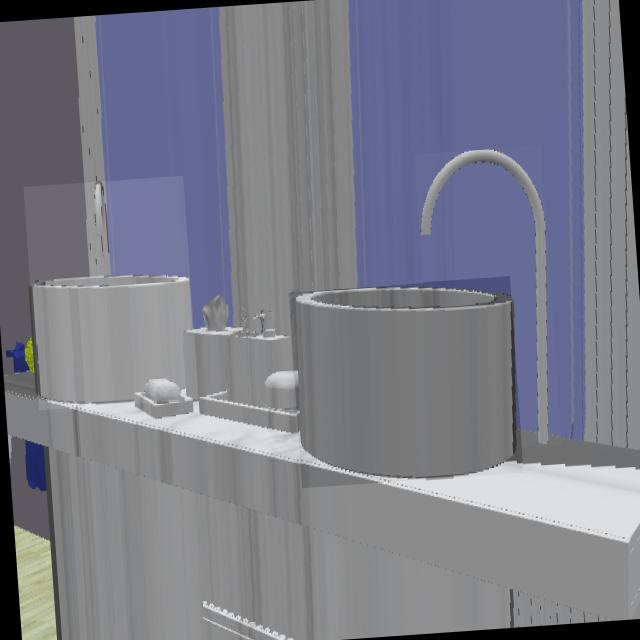washbasin: (294, 288, 515, 480), (419, 150, 548, 445), (30, 182, 192, 406)
